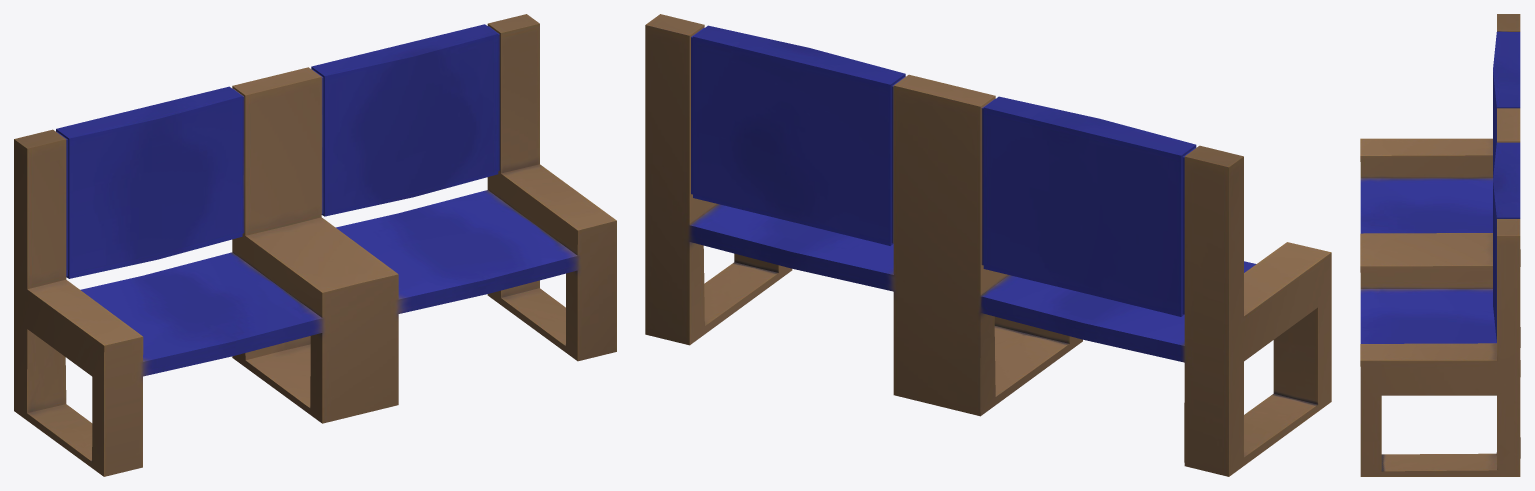
The model's file is sedie sala attesa.FBX.
3 views of the same model, side by side, from view 1: azimuth 30°, elevation 25°; view 2: azimuth 150°, elevation 25°; view 3: azimuth 270°, elevation 25° (orthographic). The views are drawn at different scales.
Visible parts, largest first — view 1: sedie sala d attesa; view 2: sedie sala d attesa; view 3: sedie sala d attesa.
Boxes of the visible parts, x1,y1,x2,y2 form: sedie sala d attesa: (14, 14, 616, 476); sedie sala d attesa: (645, 14, 1331, 476); sedie sala d attesa: (1360, 14, 1520, 476).
Size of the model in its own units: 1.97 by 1 by 0.6018.
Materials: 1 (1 with a texture image).
